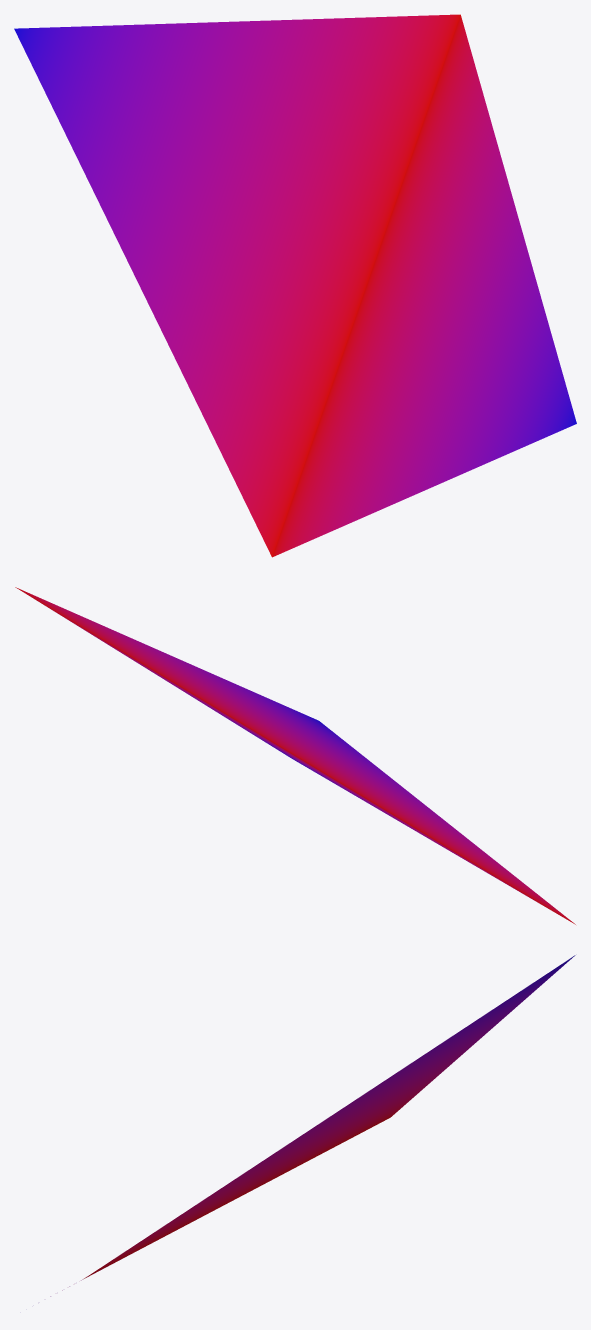
File: border_patch_8.obj
3 renders of one model, top to bottom at view 1: azimuth 30°, elevation 25°; view 2: azimuth 150°, elevation 25°; view 3: azimuth 270°, elevation 25°, orthographic. The views are drawn at different scales.
Size of the model in its own units: 0.7436 by 0.691 by 1.08.
